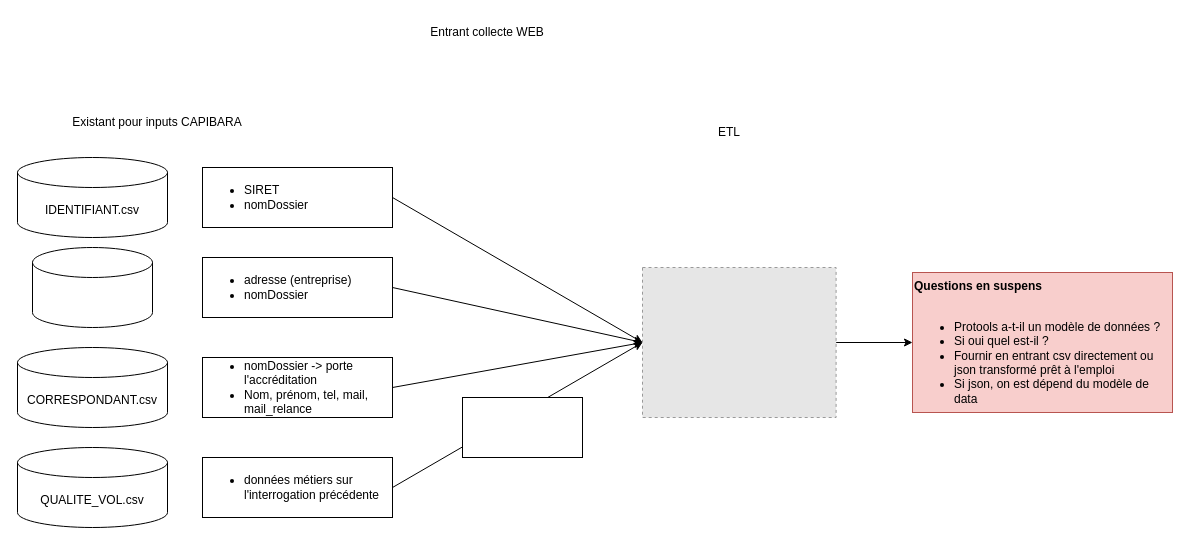
Image size: 1190x545. Some labels were removed from this diagram. Grey dashed boxes stand in for pictures. Here are the shapes that lost their labels. From the top down, the centre of each, then its label:
(x=92, y=287): ENTREPRISE.csv
(x=522, y=427): Programme R spécifique créer "external" data
